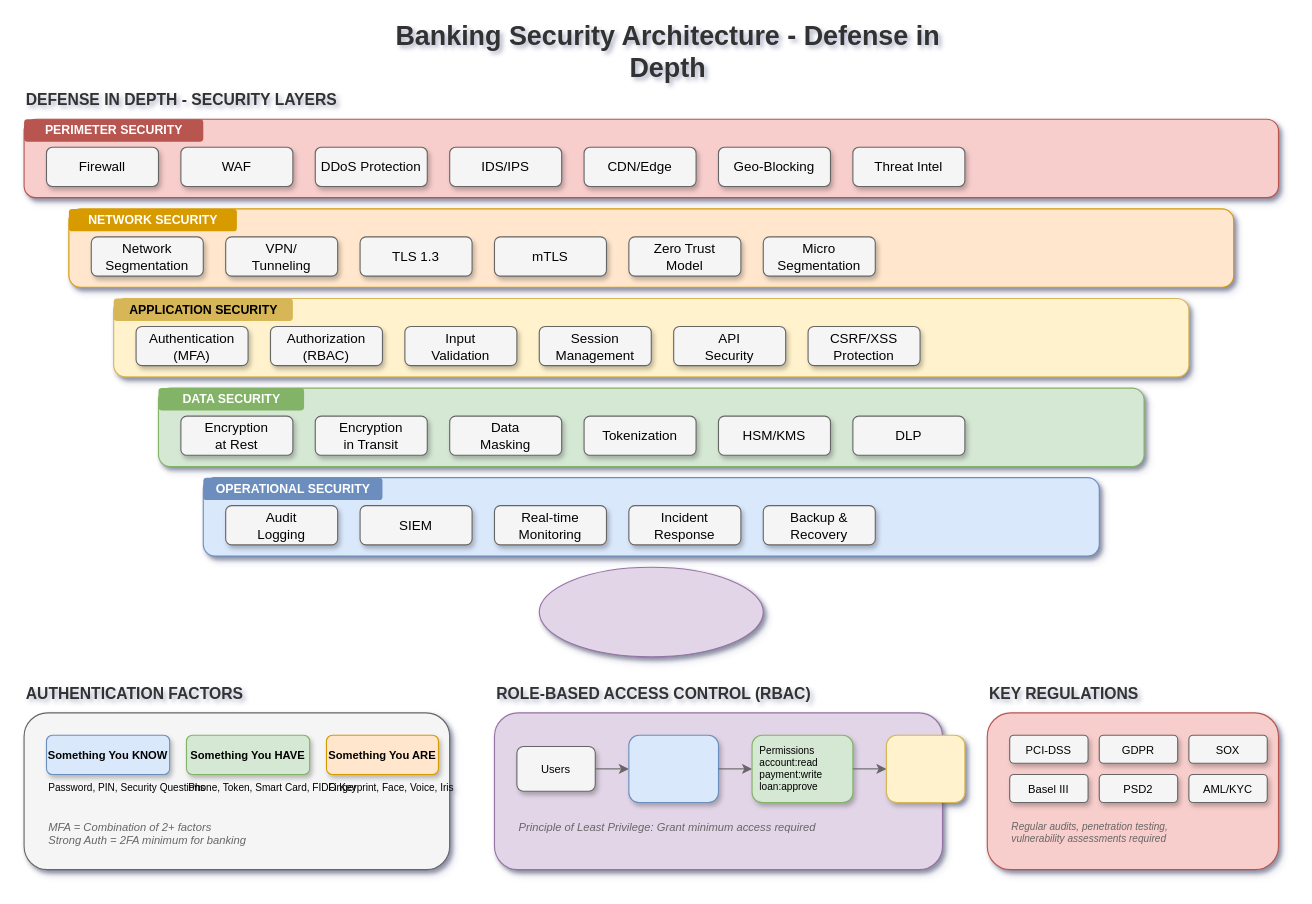
Image size: 1312x904. Some labels were removed from this diagram. Each missing label, with the centre of its shape:
"PROTECTED ASSETS (Data & Systems)" goes at pixel 652 613.
"Resources Accounts Payments Reports" goes at pixel 926 770.
"Roles Teller Manager Admin" goes at pixel 674 770.
